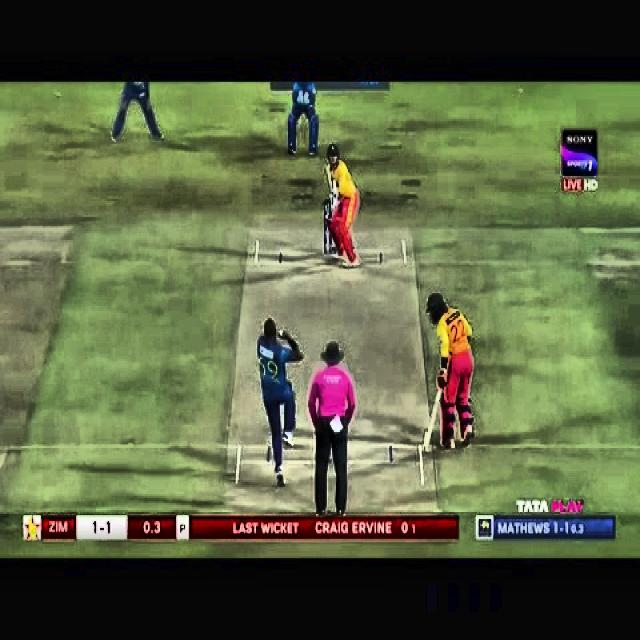Left-stump: (324, 201, 327, 254)
Middle-stump: (329, 234, 332, 252)
Right-stump: (334, 242, 337, 252)
